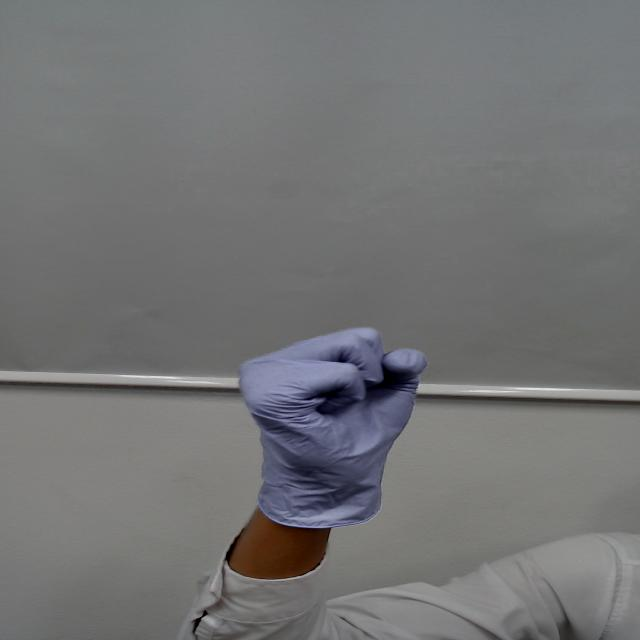glove: (224, 317, 442, 464)
